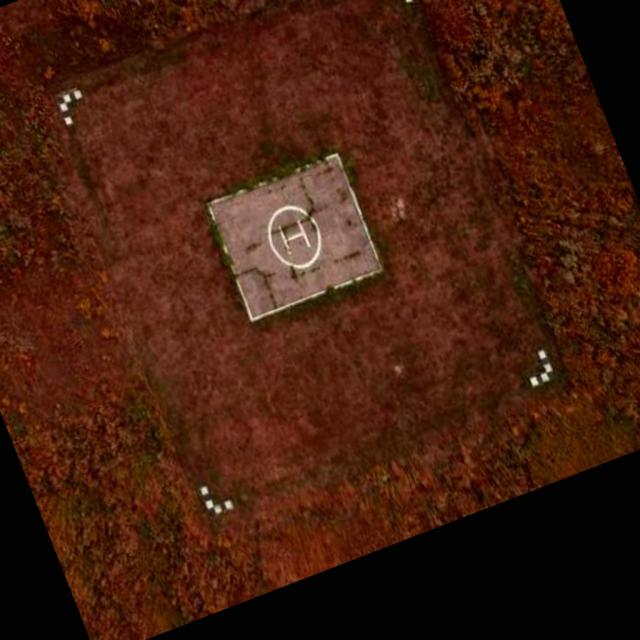helipad: (264, 201, 326, 272)
